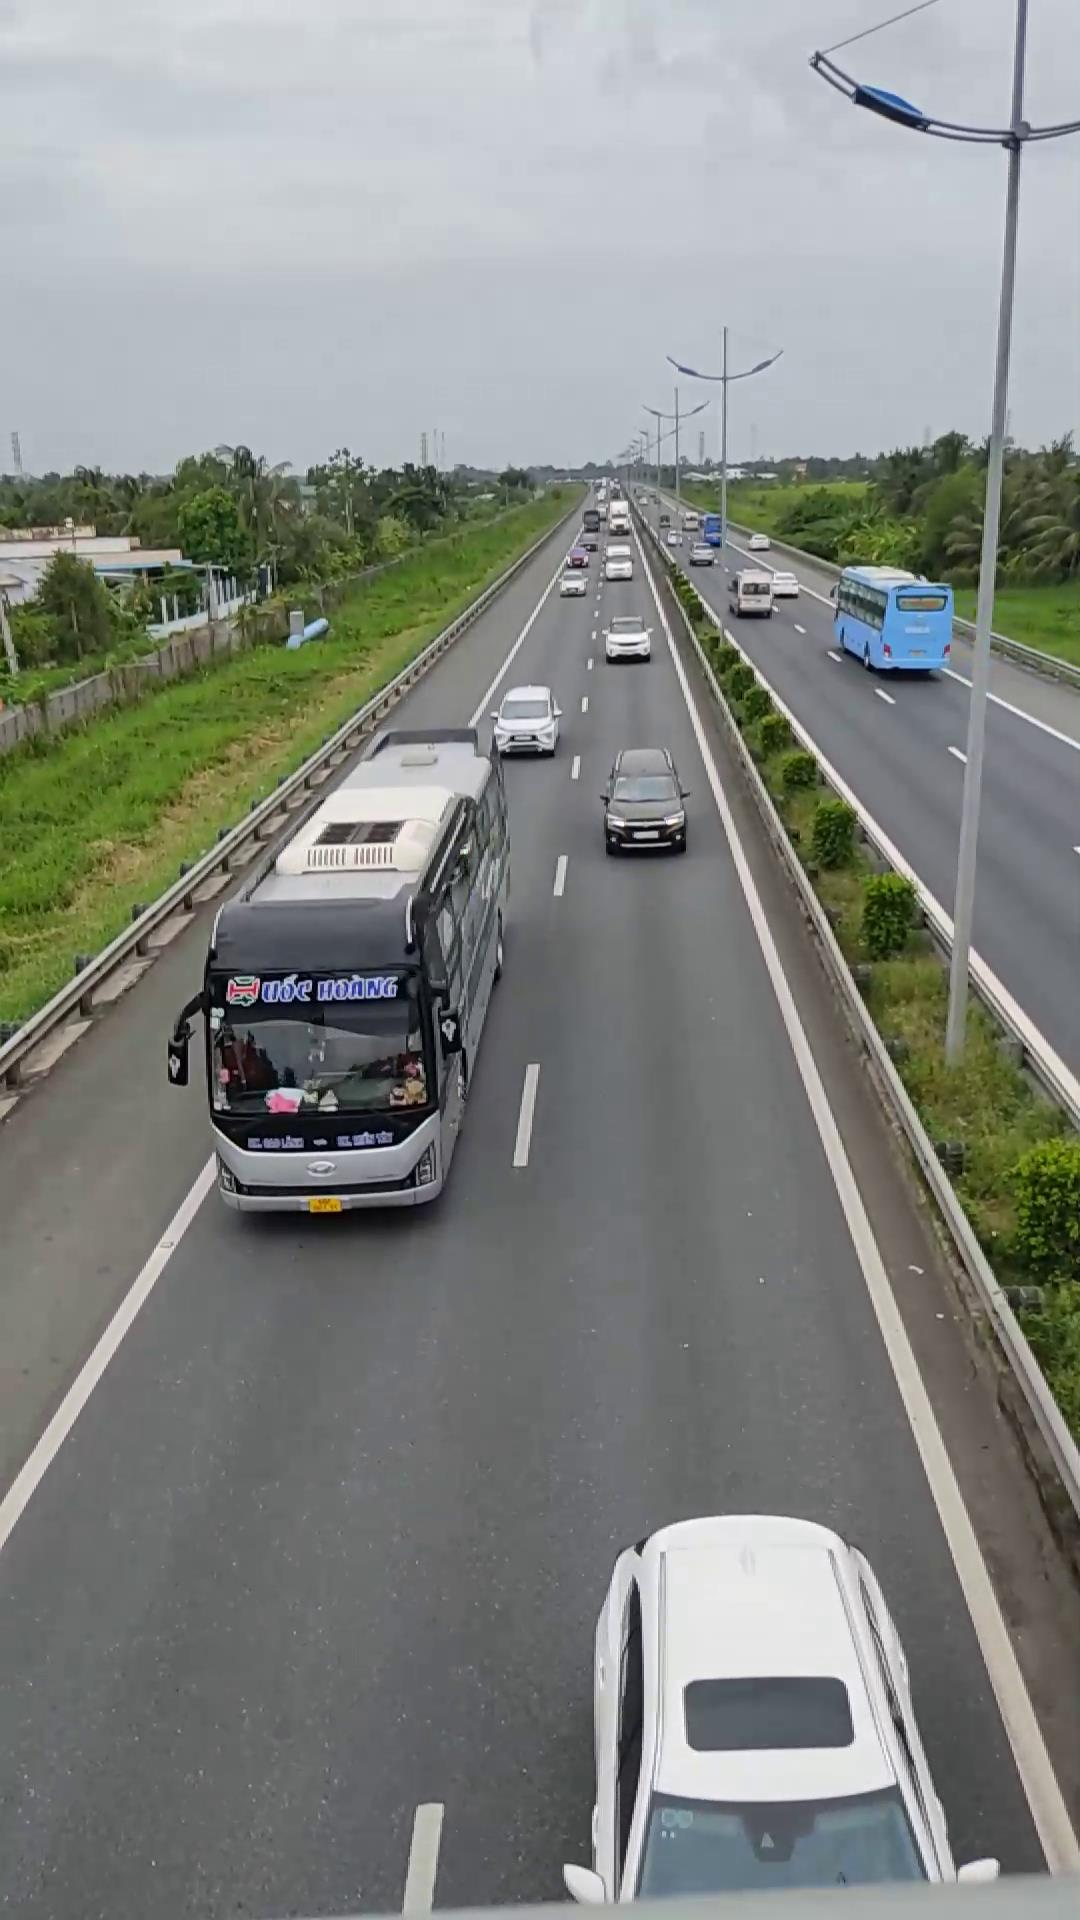bus: (175, 734, 515, 1217), (831, 563, 956, 672)
car: (576, 1511, 948, 1887), (598, 746, 691, 855), (484, 684, 562, 756)
